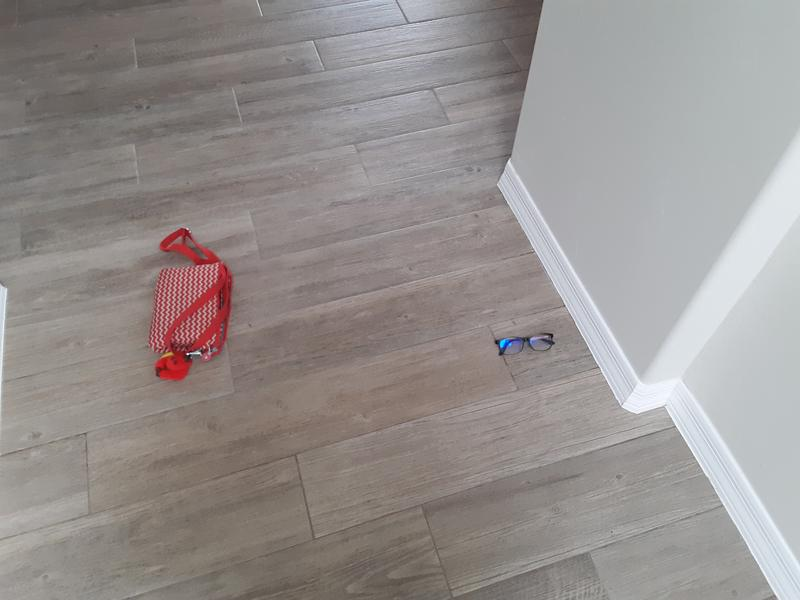glasses: (493, 330, 556, 358)
